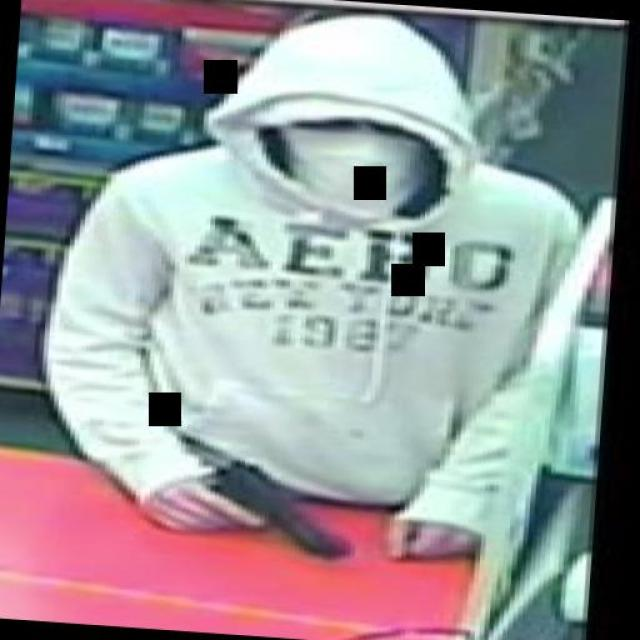gun: (170, 455, 352, 563)
